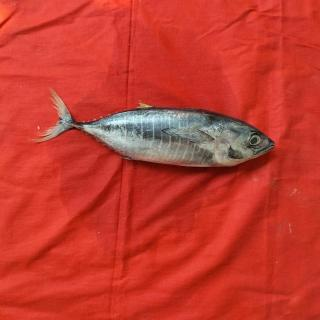Ikan: (29, 78, 287, 190)
